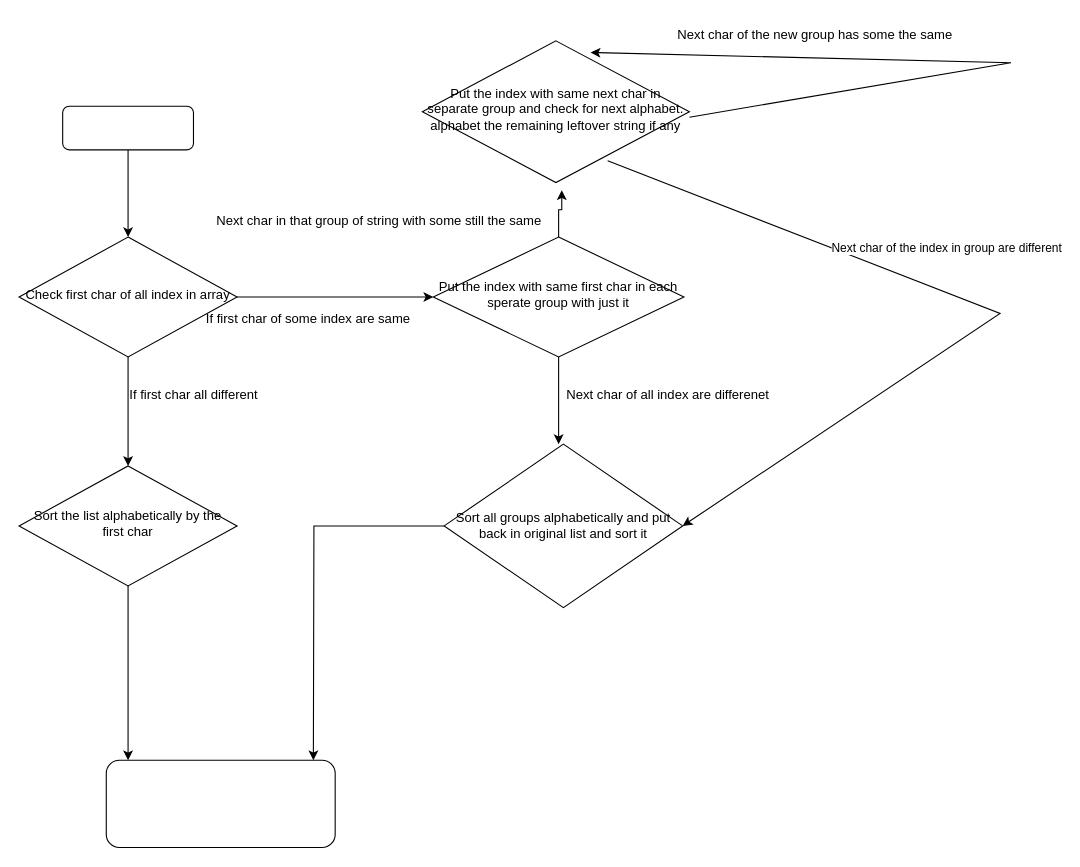
Some shapes in this 1080 by 867 pixel diagram are drawn without their labels. The centre of each missing label's shape, as x and y in pixels:
"Print the sorted list" goes at (x=220, y=803).
"Start" goes at (x=127, y=127).
